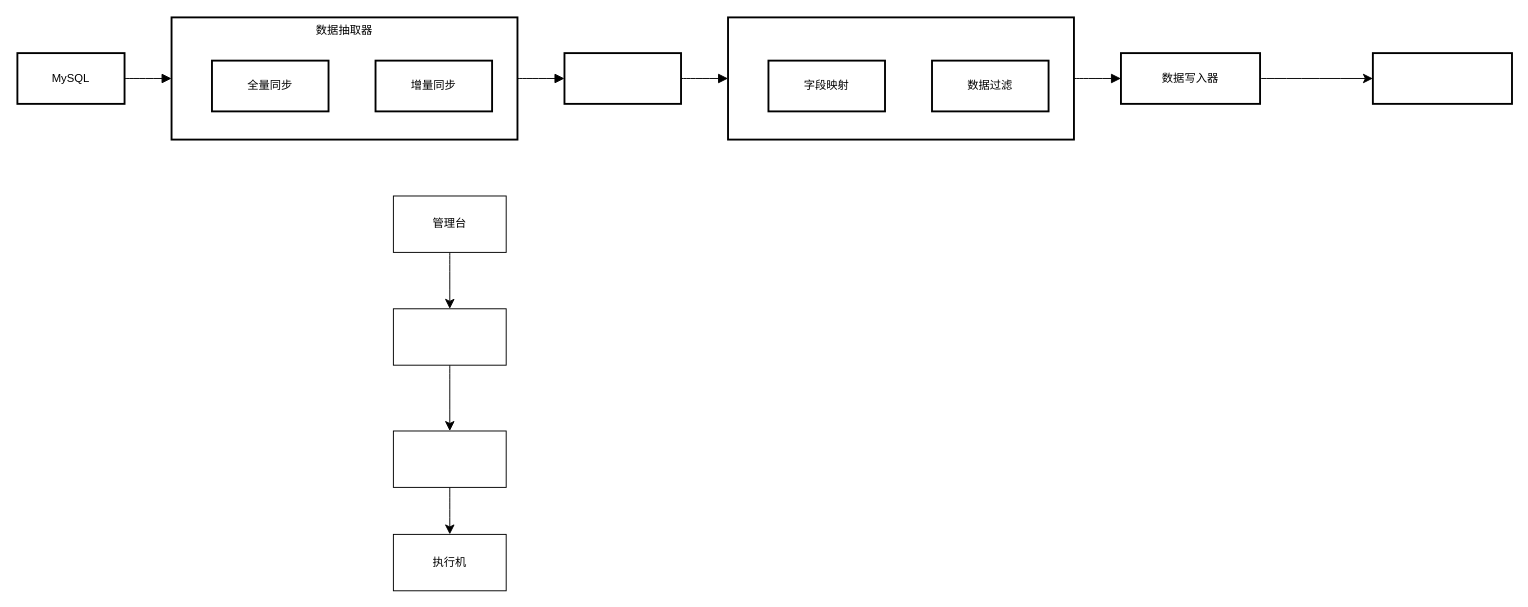
This 1528x607 diagram has some shape labels left out. Each missing label, with the box of its shape:
posgres: (1371, 52, 1512, 104)
临时存储: (563, 52, 682, 104)
任务队列: (392, 430, 506, 487)
数据转换器: (727, 16, 1074, 140)
调度器: (392, 308, 506, 365)
